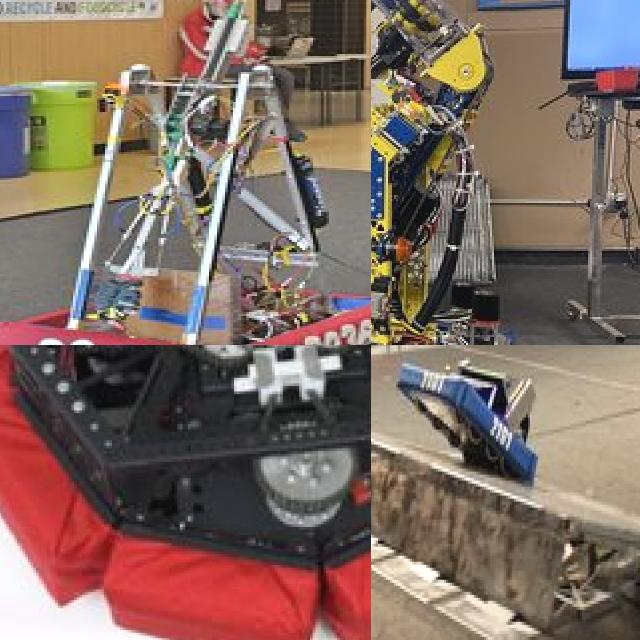FRC-Robots: (0, 0, 371, 345), (0, 345, 371, 640), (371, 0, 541, 345), (392, 345, 555, 488)
